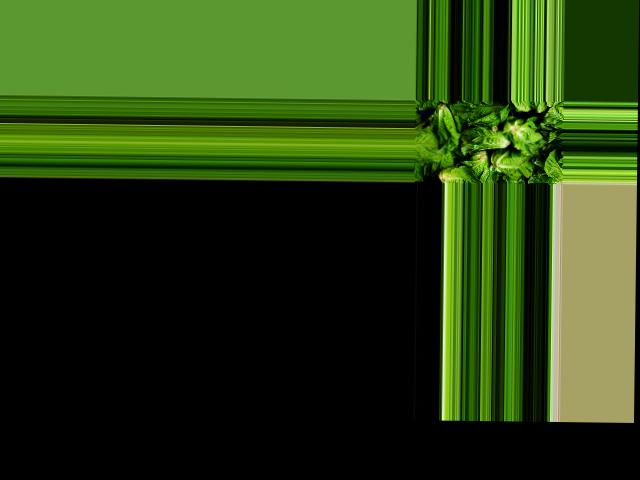lettuce: (431, 163, 481, 182)
